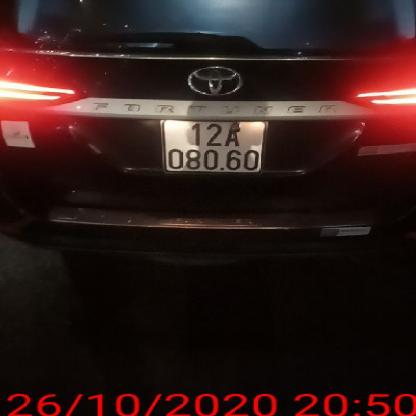biensoxe: (158, 113, 274, 175)
